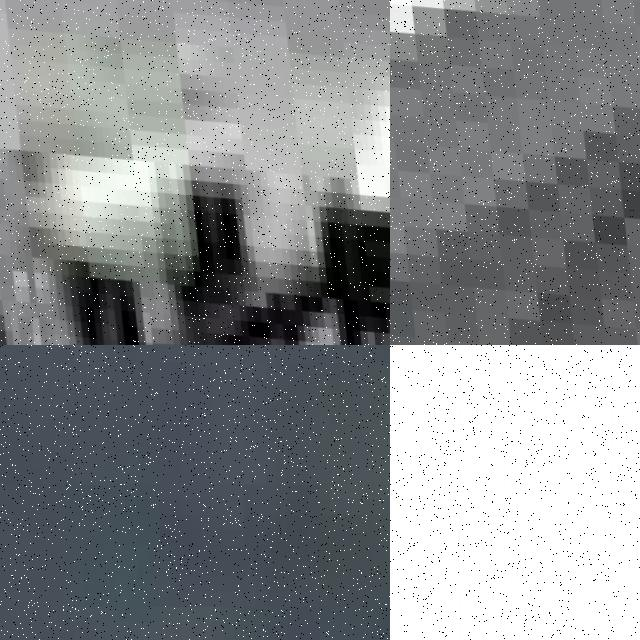drone: (0, 0, 390, 345), (390, 0, 640, 345)
